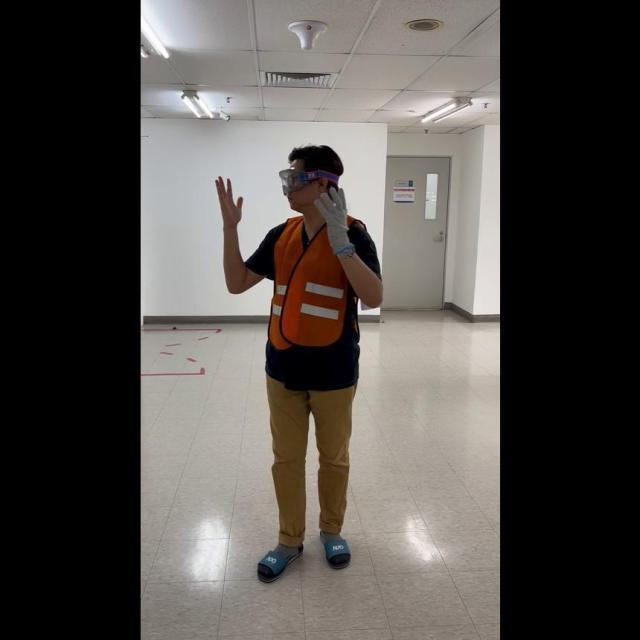bare_hand: (214, 170, 243, 237)
gloved_hand: (315, 183, 354, 256)
